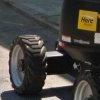Tractor: (7, 12, 100, 100)
